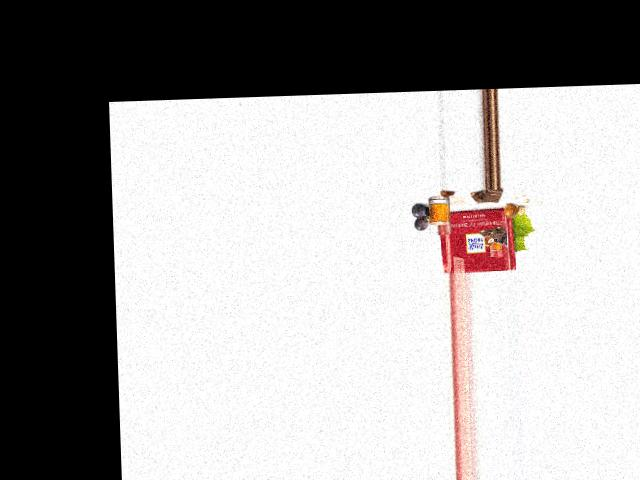chocolate: (440, 208, 518, 272)
